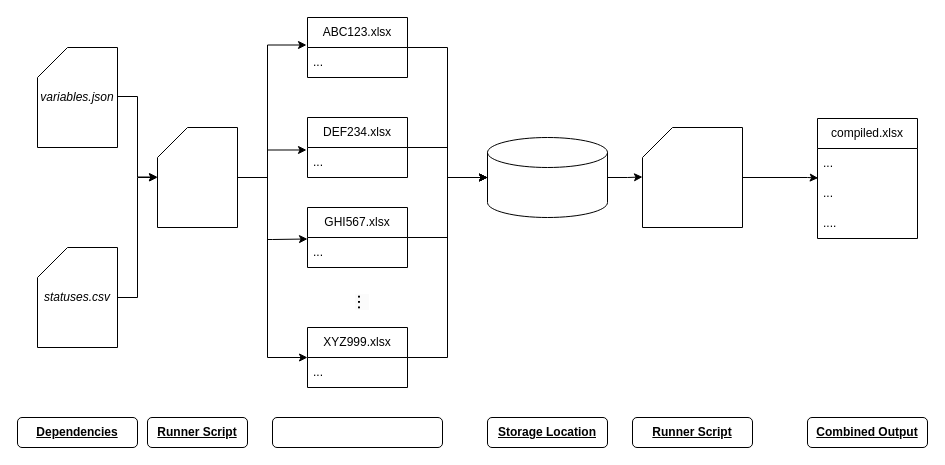
Some shapes in this 945 by 465 pixel diagram are drawn without their labels. Here are the shapes that lost their labels. From the top down, the centre of each, then its label:
At pixel 197 177: "random_dg.py".
At pixel 547 177: "Random DG Folder".
At pixel 692 177: "dg_combined.py".
At pixel 357 432: "Randomly Generated Output".
